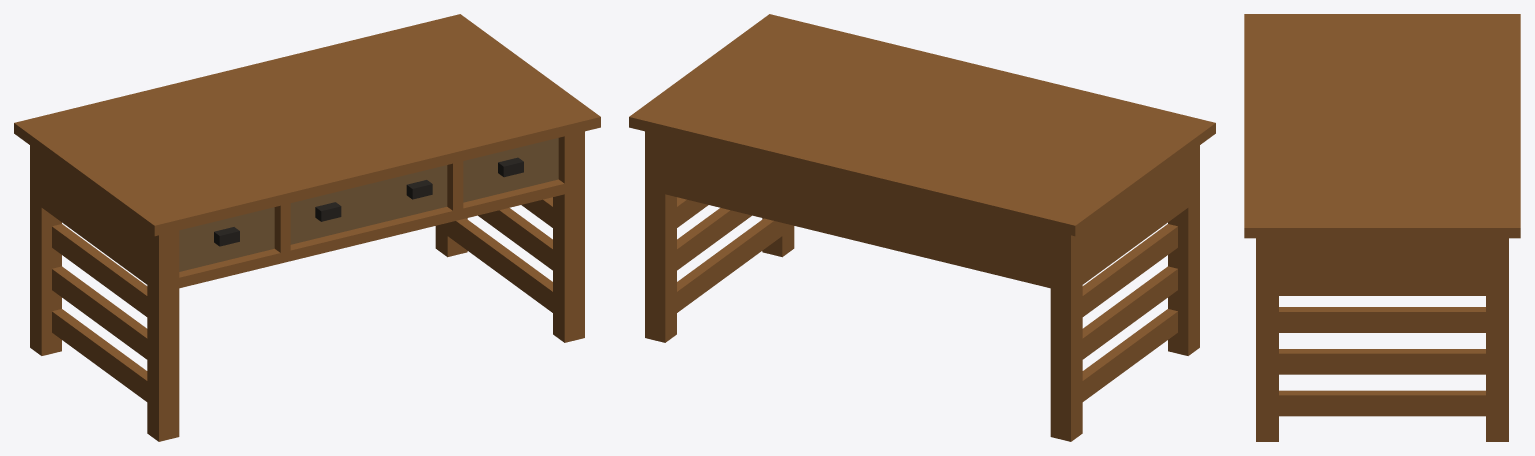
File: Desk.fbx
3 views of the same model, side by side, from view 1: azimuth 30°, elevation 25°; view 2: azimuth 150°, elevation 25°; view 3: azimuth 270°, elevation 25° (orthographic).
Parts seen in each view (by area): view 1: Polygon; view 2: Polygon; view 3: Polygon.
Part boxes in pixels (x1,y1,x2,y2): Polygon: (14, 14, 600, 441); Polygon: (629, 14, 1215, 441); Polygon: (1244, 14, 1520, 441).
Size of the model in its own units: 4.4 by 2.1 by 2.4.
Materials: 1 (1 with a texture image).
